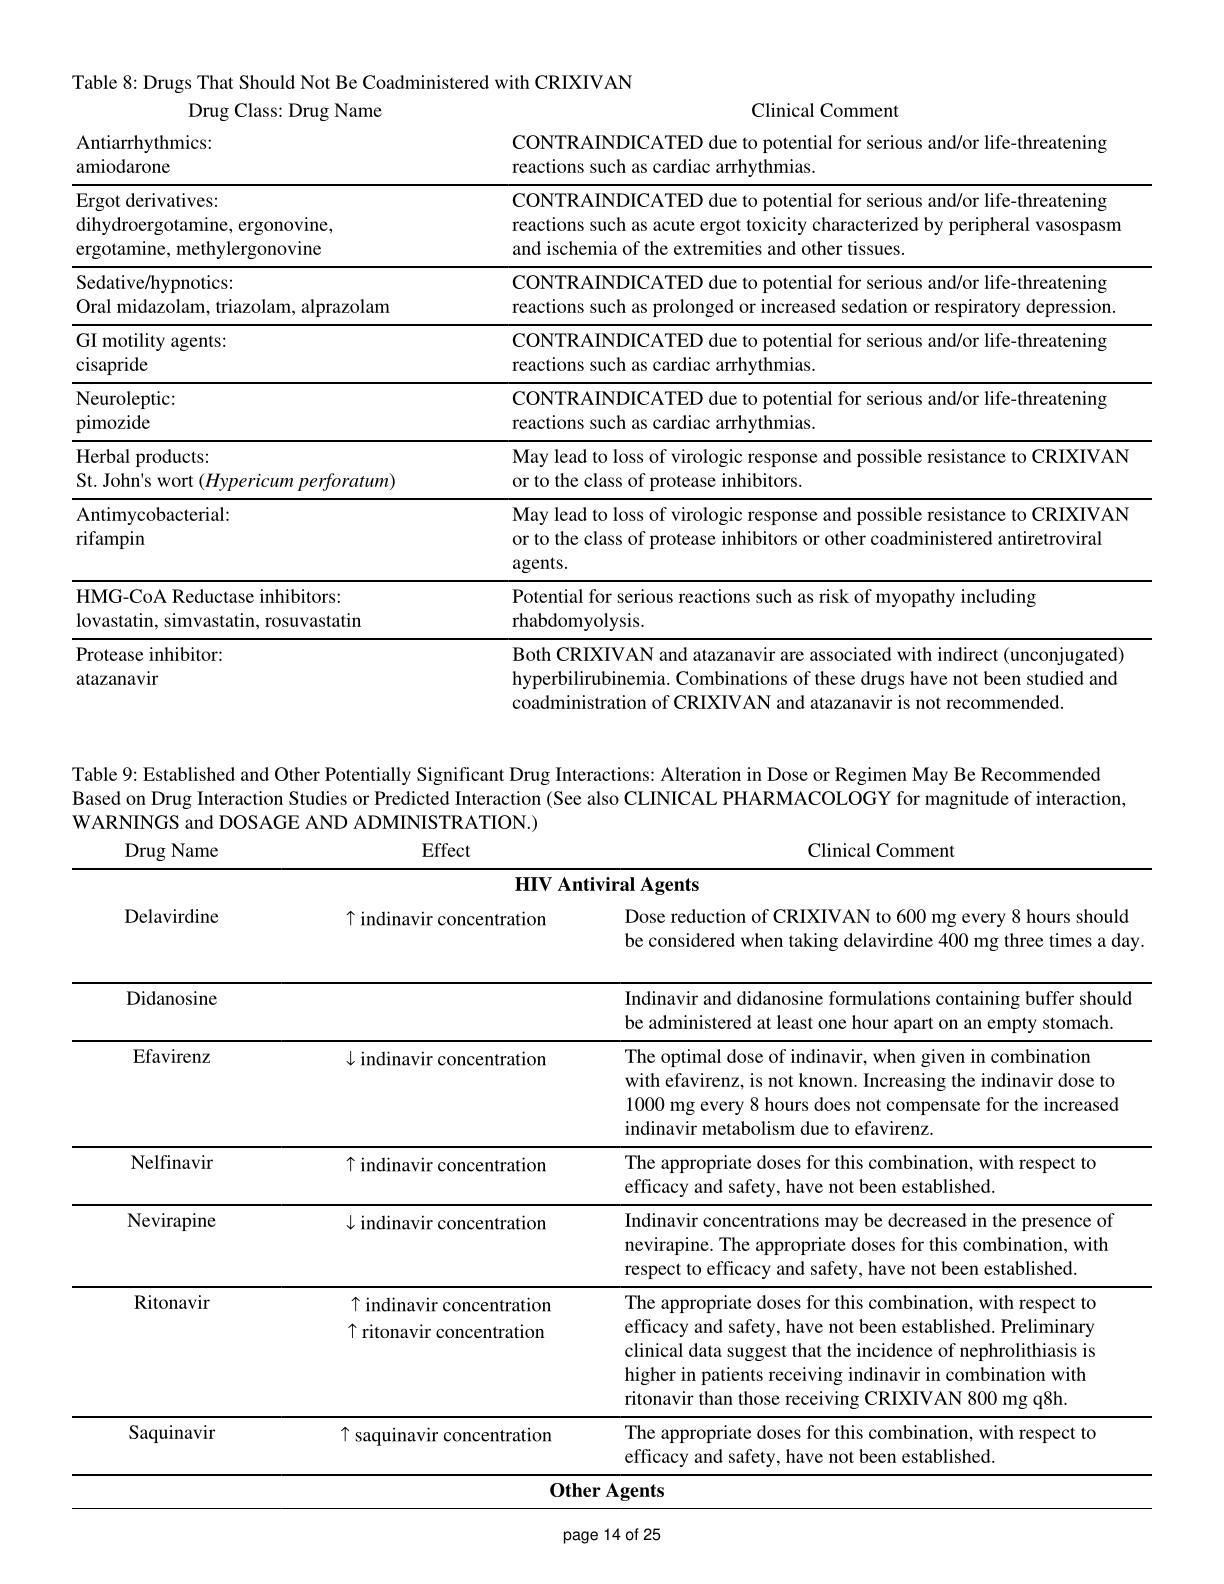partial_lined: (69, 96, 1156, 715)
partial_lined_merged_cells: (69, 837, 1157, 1479)
